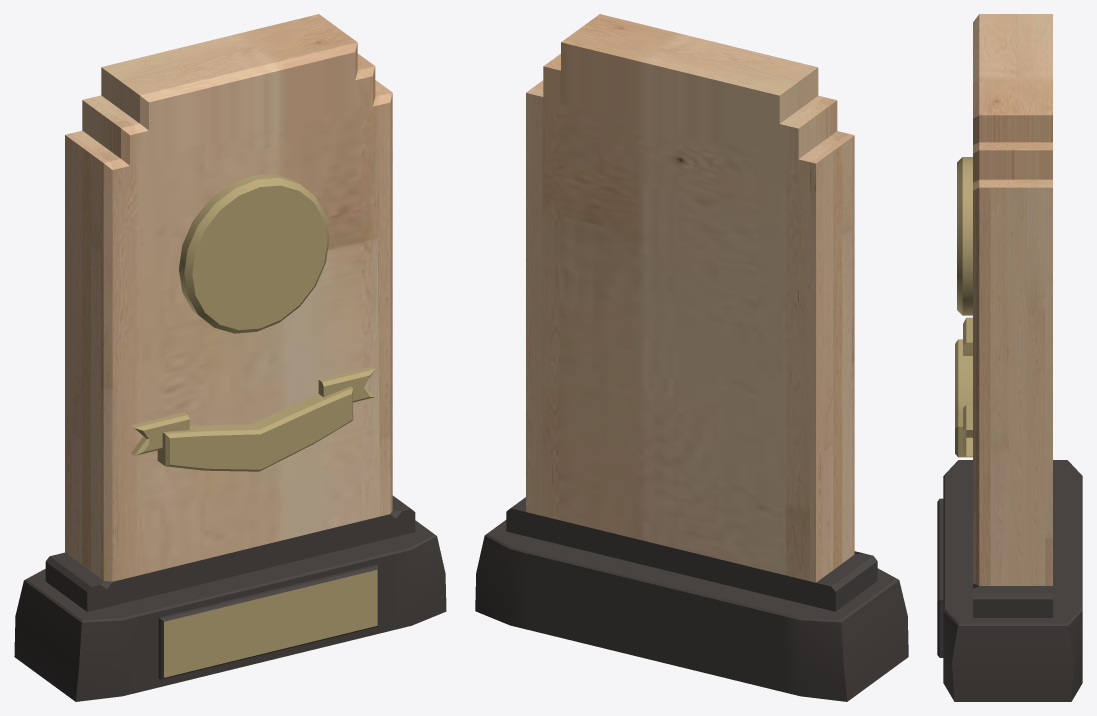
Rendered from trophy.fbx.
The picture shows the model from 3 angles, left to right: view 1: azimuth 30°, elevation 25°; view 2: azimuth 150°, elevation 25°; view 3: azimuth 270°, elevation 25°; orthographic projection. The views are drawn at different scales.
Parts seen in each view (by area): view 1: trophy; view 2: trophy; view 3: trophy.
Part boxes in pixels (box(x1,y1,x2,y2)): trophy: box(14, 14, 446, 701); trophy: box(475, 14, 908, 701); trophy: box(937, 14, 1082, 701).
Size of the model in its own units: 1.71 by 2.55 by 0.6089.
3 materials, 1 textured.
